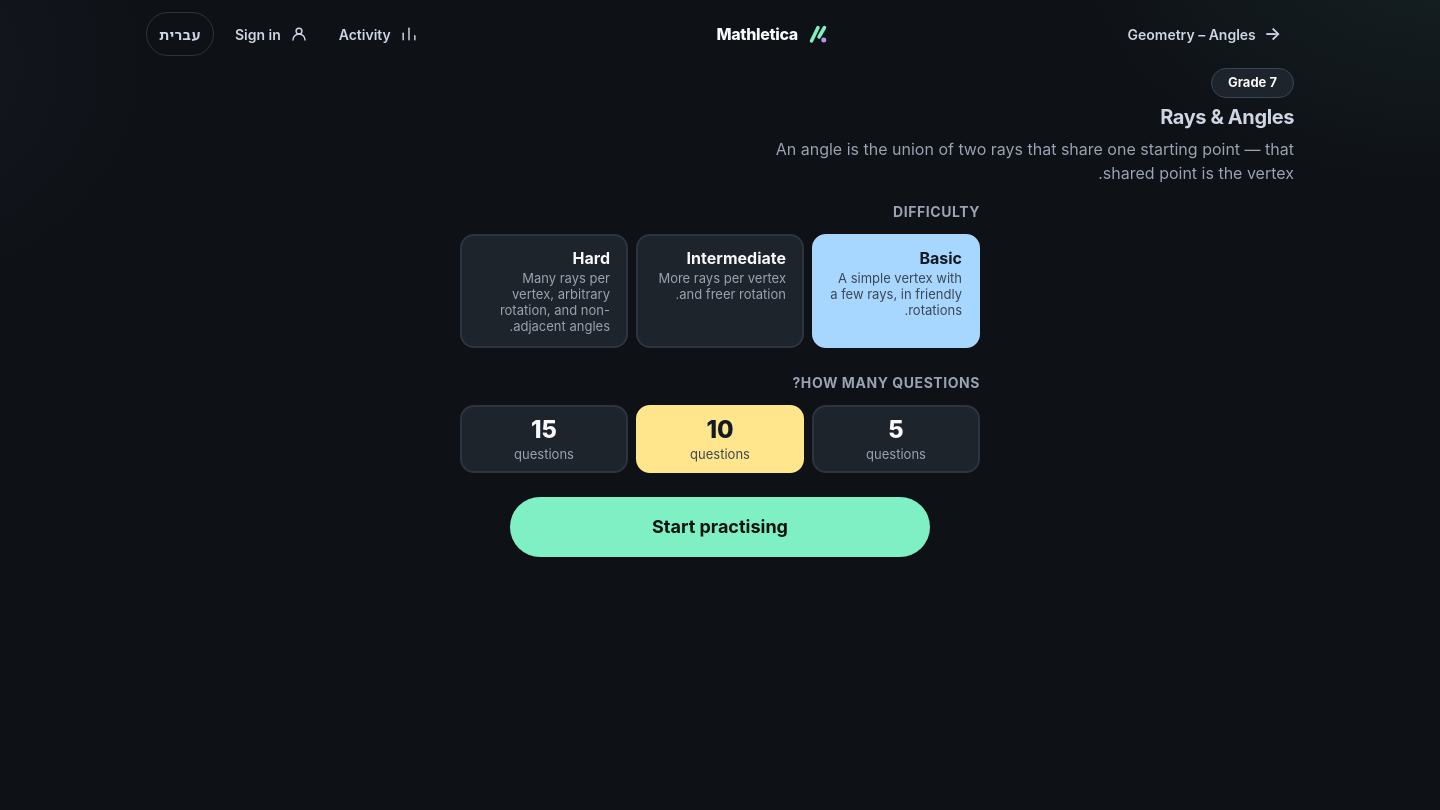
Rays & Angles training activity › renders a diagram and at least one interactive way to answer (a clickable point, angle, or option button)
Click the button with test id "tr-start": (720,526) left=510, top=496, right=930, bottom=556
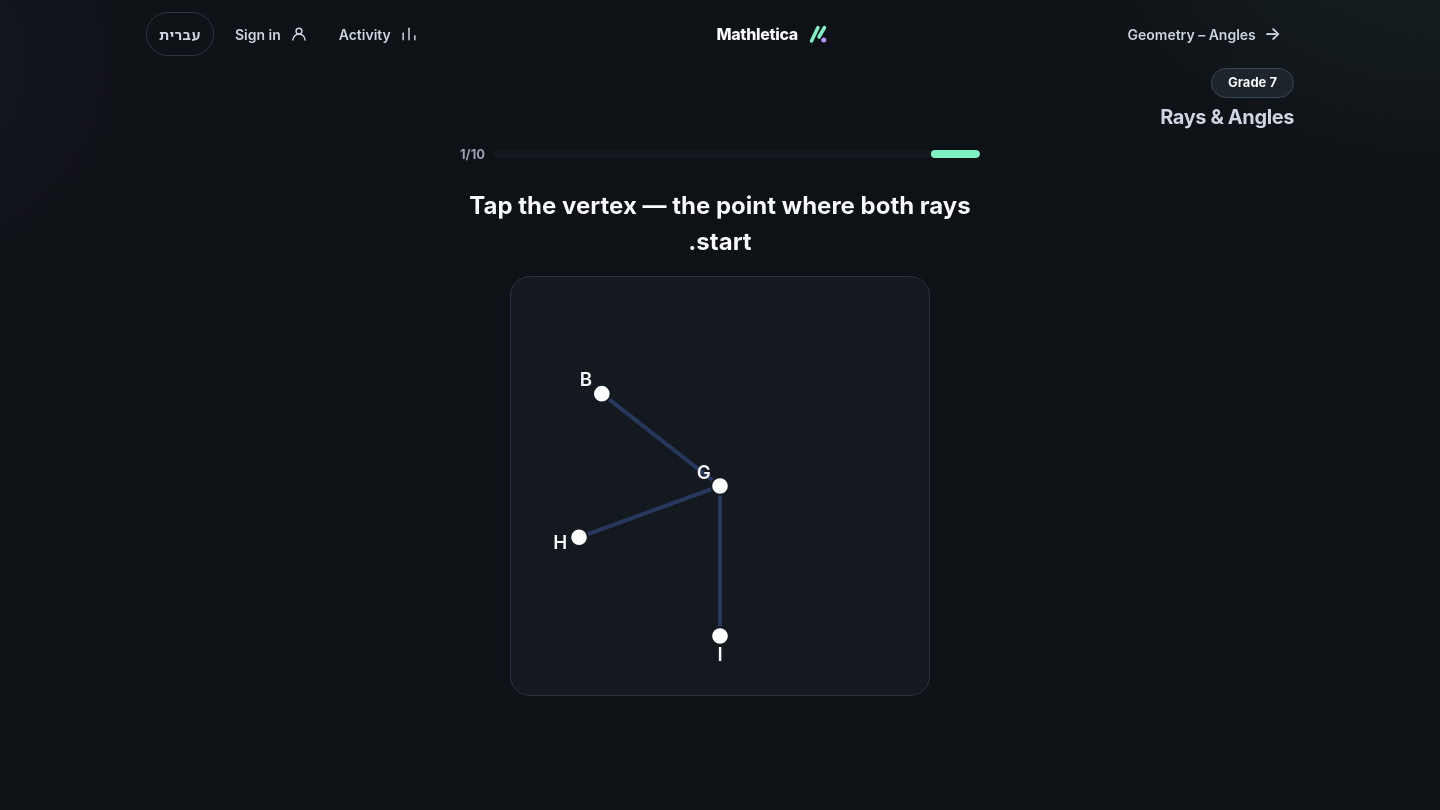
Expected: the icon with class "geo-stage" is shown, left=510, top=276, right=930, bottom=696
